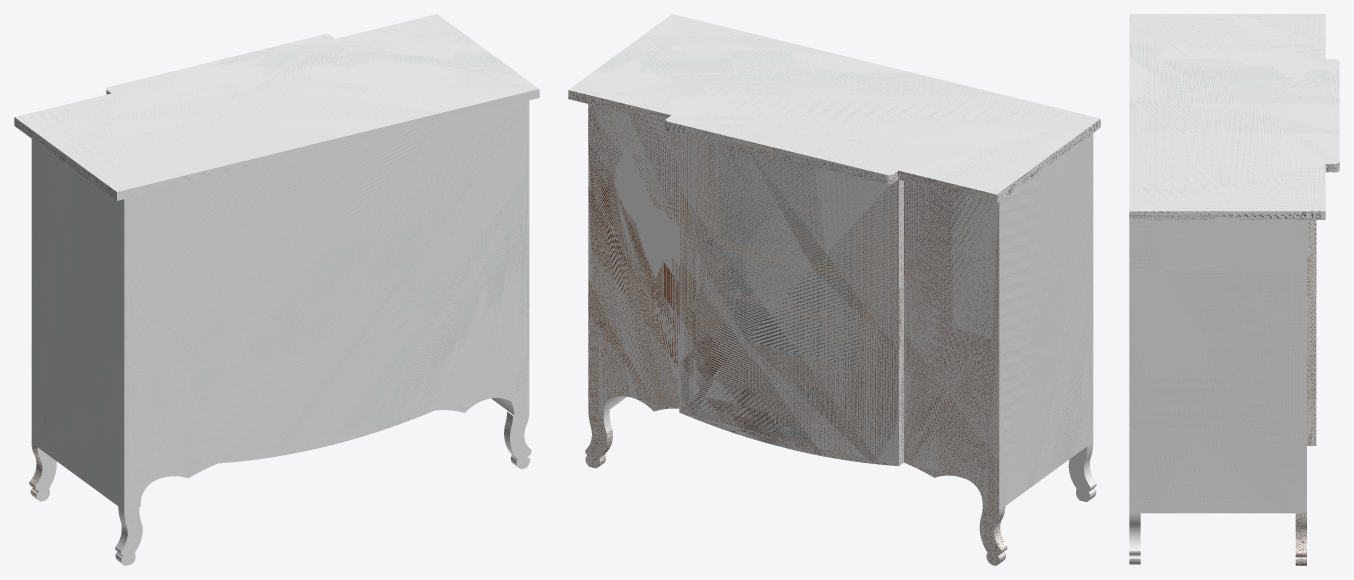
3 renders of one model, left to right at view 1: azimuth 30°, elevation 25°; view 2: azimuth 150°, elevation 25°; view 3: azimuth 270°, elevation 25°, orthographic. The views are drawn at different scales.
Parts seen in each view (by area): view 1: mesh1_mesh1-geometry; view 2: mesh1_mesh1-geometry; view 3: mesh1_mesh1-geometry.
Part boxes in pixels (x1=…): mesh1_mesh1-geometry: x1=14, y1=14, x2=539, y2=565; mesh1_mesh1-geometry: x1=568, y1=14, x2=1100, y2=565; mesh1_mesh1-geometry: x1=1129, y1=14, x2=1339, y2=565.
Size of the model in its own units: 0.7208 by 0.6126 by 0.3243.
